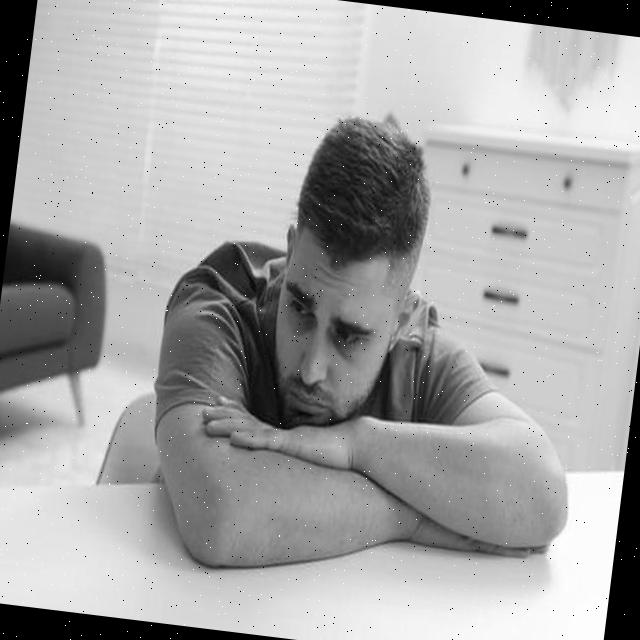Sadness: (265, 238, 395, 442)
